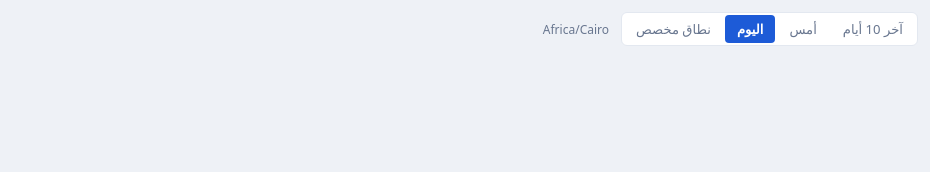
it: PeriodSelector draft/apply (R07) › Apply without dates commits nothing and shows an error
Click the button "نطاق مخصص" at (673,29), box [624,15,723,43]
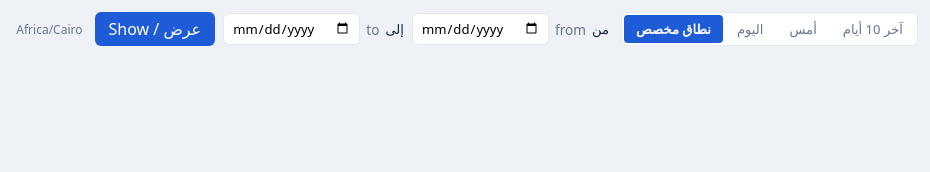
Click the button "عرض / Show" at (155,29), box [94,12,215,46]
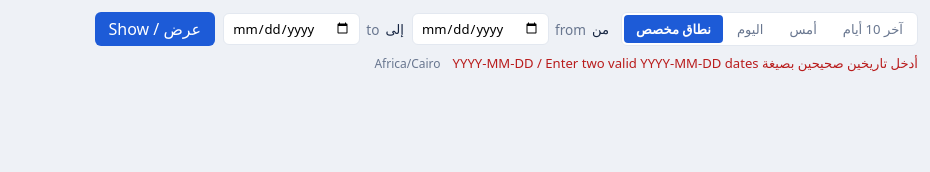
Now the message "أدخل تاريخين صحيحين بصيغة YYYY-MM-DD / Enter two valid YYYY-MM-DD dates" is shown, box [453,54,918,72]
